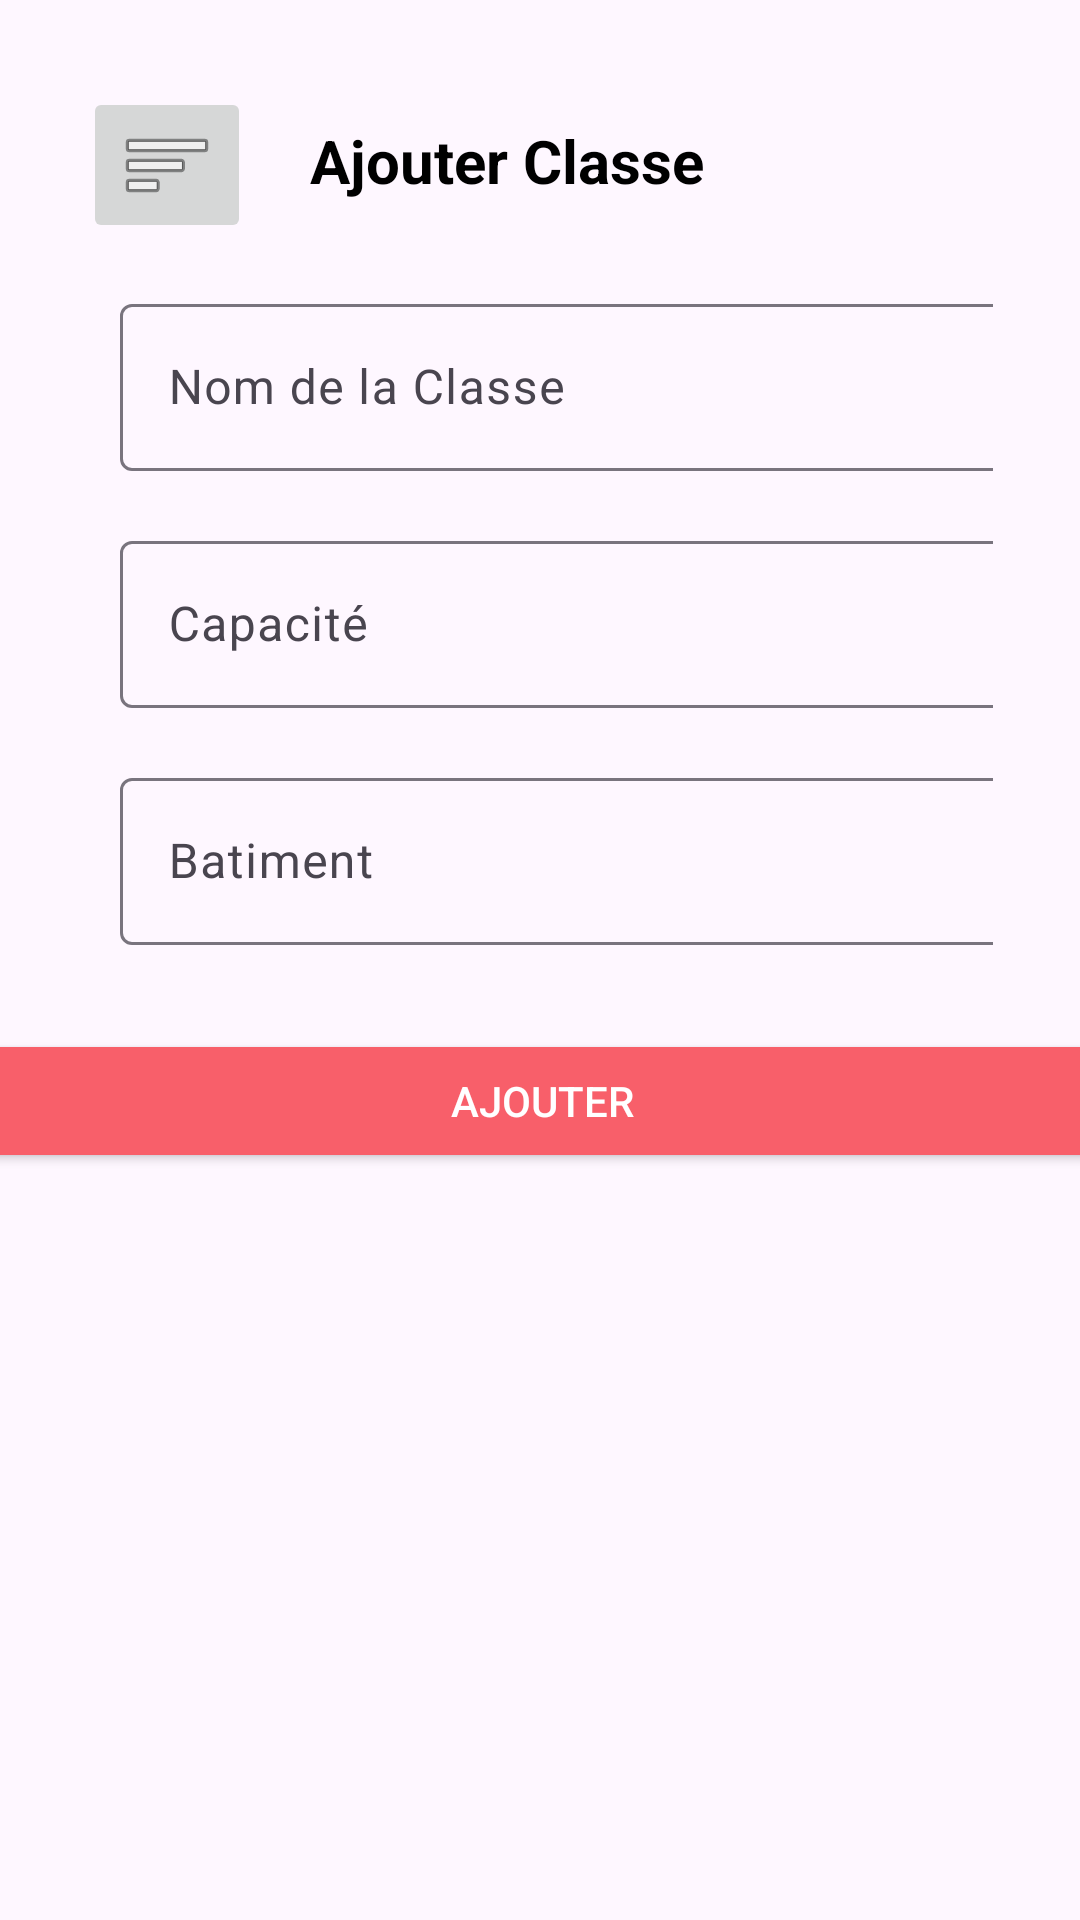

Locate icon controls on the screen. Image size 1080 x 1920, boxes as (x1, y1, x2, y2).
sort by size: (95, 105, 239, 225)
